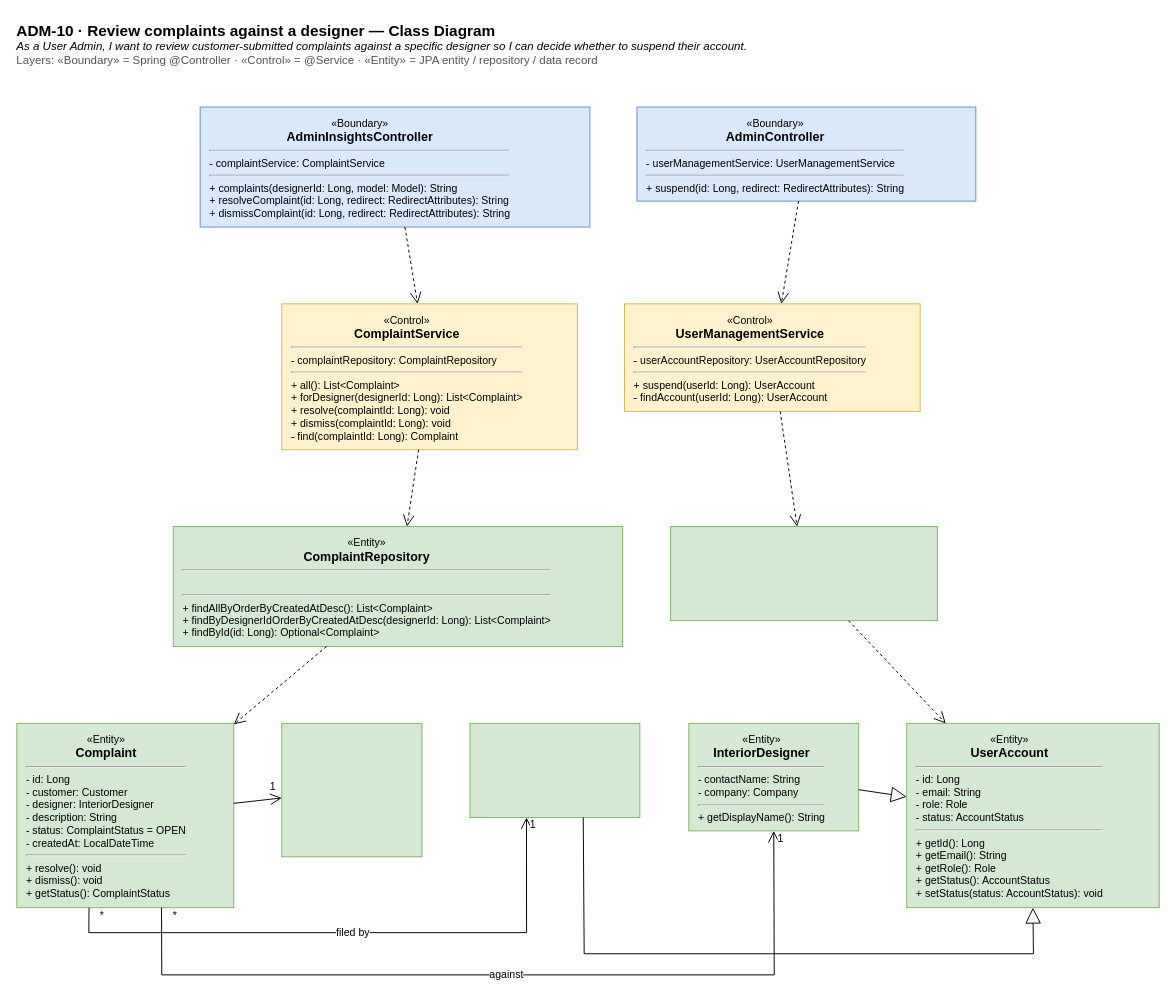
Image size: 1176x1003. Some labels were removed from this diagram. The shapes that lost their labels are listed below. From the top down, each one's box as (x1, y1, x2, y2) in pixels, then its label:
(670, 526, 937, 621): «Entity» UserAccountRepository + findById(id: Long): Optional<UserAccount>
(281, 722, 422, 857): «Entity» «enumeration» ComplaintStatus OPEN RESOLVED DISMISSED
(469, 722, 640, 817): «Entity» Customer - fullName: String + getDisplayName(): String
